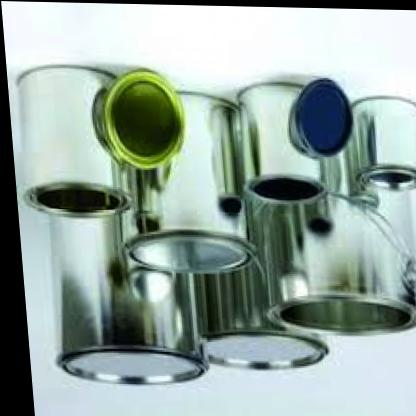Metal: (11, 50, 416, 406)
